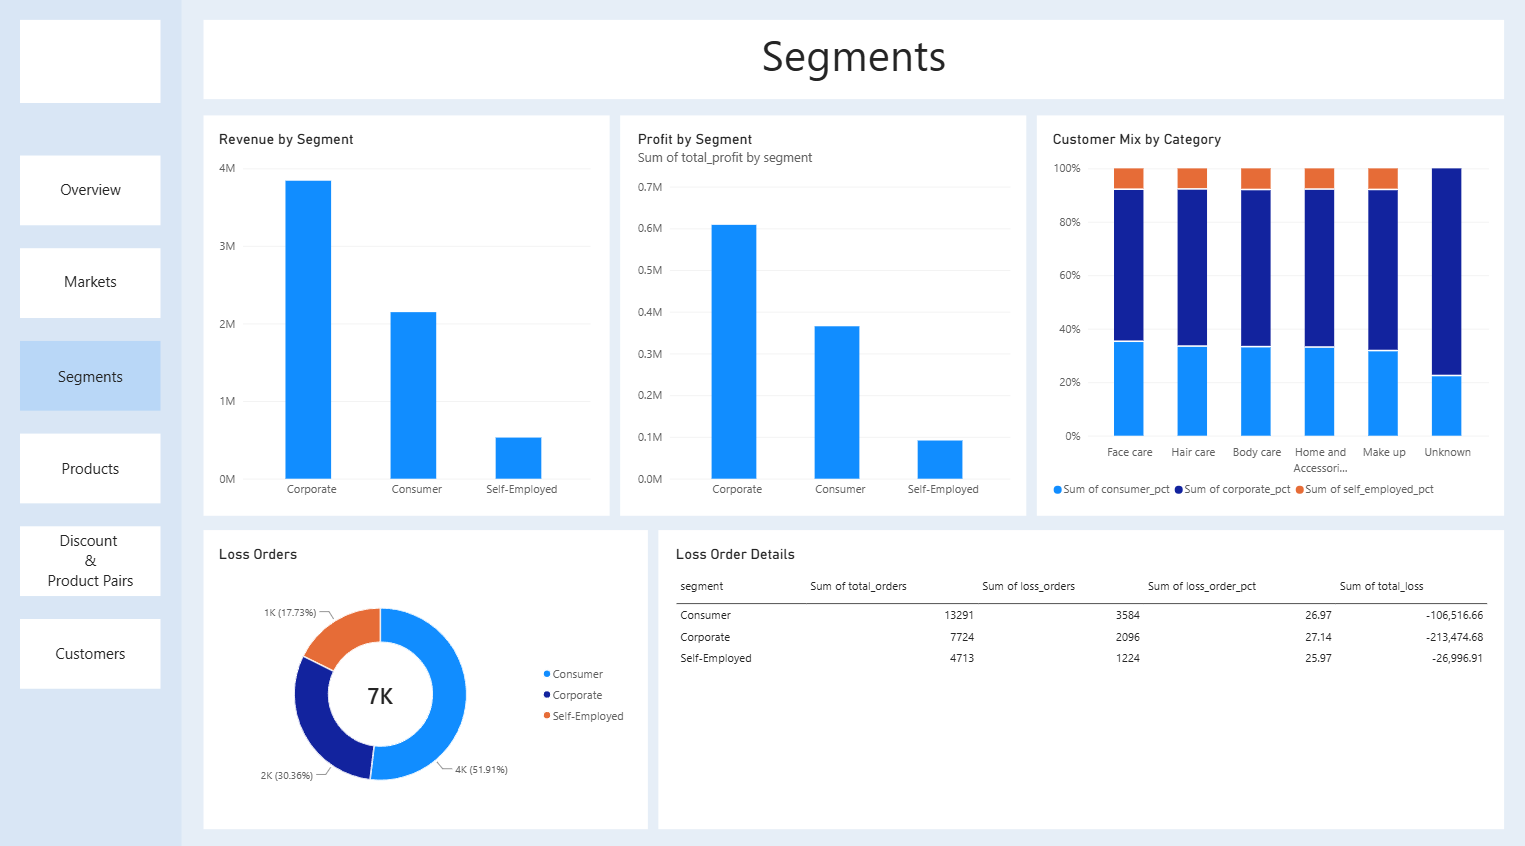

This screenshot's page, from the dashboard's own definition file:
{"tool":"powerbi","page":{"name":"Segments","canvas":[1920,1080],"ordinal":2},"visuals":[{"type":"hundredPercentStackedColumnChart","title":"Customer Mix by Category","fields":{"Category":["q09_cross_sell_consumer_corporate.category"],"Y":["Sum(q09_cross_sell_consumer_corporate.consumer_pct)","Sum(q09_cross_sell_consumer_corporate.corporate_pct)","Sum(q09_cross_sell_consumer_corporate.self_employed_pct)"]},"box":[1307.1,155.7,580,495.7],"z":0},{"type":"clusteredColumnChart","title":"Revenue by Segment","fields":{"Category":["q02_revenue_by_segment.segment"],"Y":["Sum(q02_revenue_by_segment.total_revenue)"]},"box":[260,155.7,498.6,495.7],"z":1000},{"type":"clusteredColumnChart","title":"Profit by Segment","fields":{"Category":["q02_revenue_by_segment.segment"],"Y":["Sum(q02_revenue_by_segment.total_profit)"]},"box":[785.7,155.7,500,495.7],"z":2000},{"type":"donutChart","title":"Loss Orders","fields":{"Category":["q07_loss_orders_by_segment.segment"],"Y":["Sum(q07_loss_orders_by_segment.loss_orders)"]},"box":[260,677.1,550,367.1],"z":3000},{"type":"tableEx","title":"Loss Order Details","fields":{"Values":["q07_loss_orders_by_segment.segment","Sum(q07_loss_orders_by_segment.total_orders)","Sum(q07_loss_orders_by_segment.loss_orders)","Sum(q07_loss_orders_by_segment.loss_order_pct)","Sum(q07_loss_orders_by_segment.total_loss)"]},"box":[834.3,677.1,1052.9,367.1],"z":4000},{"type":"textbox","box":[258.6,37.1,1630,90],"z":5000},{"type":"textbox","box":[27.1,231.4,174.3,55.7],"z":6000},{"type":"textbox","box":[27.1,347.1,174.3,57.1],"z":7000},{"type":"textbox","box":[27.1,465.7,174.3,55.7],"z":8000},{"type":"textbox","box":[27.1,581.4,174.3,55.7],"z":9000},{"type":"textbox","box":[27.1,671.4,174.3,81.4],"z":10000},{"type":"textbox","box":[27.1,814.3,174.3,55.7],"z":11000},{"type":"actionButton","box":[27.1,348.6,174.3,55.7],"z":12000},{"type":"actionButton","box":[27.1,231.4,174.3,55.7],"z":13000},{"type":"actionButton","box":[27.1,465.7,174.3,55.7],"z":13001},{"type":"actionButton","box":[27.1,581.4,174.3,55.7],"z":13002},{"type":"actionButton","box":[27.1,671.4,174.3,81.4],"z":13003},{"type":"actionButton","box":[27.1,814.3,174.3,55.7],"z":13004}]}

Visuals, with their boxes on the page's 1920x1080 design canvas (x1, y1, x2, y2). These are canvas units, not pixel positions in the 1525x846 screenshot, which may show the page scaled, cropped or inside an application window:
"Customer Mix by Category" hundredPercentStackedColumnChart: box=[1307, 156, 1887, 651]
"Revenue by Segment" clusteredColumnChart: box=[260, 156, 759, 651]
"Profit by Segment" clusteredColumnChart: box=[786, 156, 1286, 651]
"Loss Orders" donutChart: box=[260, 677, 810, 1044]
"Loss Order Details" tableEx: box=[834, 677, 1887, 1044]
textbox: box=[259, 37, 1889, 127]
textbox: box=[27, 231, 201, 287]
textbox: box=[27, 347, 201, 404]
textbox: box=[27, 466, 201, 521]
textbox: box=[27, 581, 201, 637]
textbox: box=[27, 671, 201, 753]
textbox: box=[27, 814, 201, 870]
actionButton: box=[27, 349, 201, 404]
actionButton: box=[27, 231, 201, 287]
actionButton: box=[27, 466, 201, 521]
actionButton: box=[27, 581, 201, 637]
actionButton: box=[27, 671, 201, 753]
actionButton: box=[27, 814, 201, 870]
